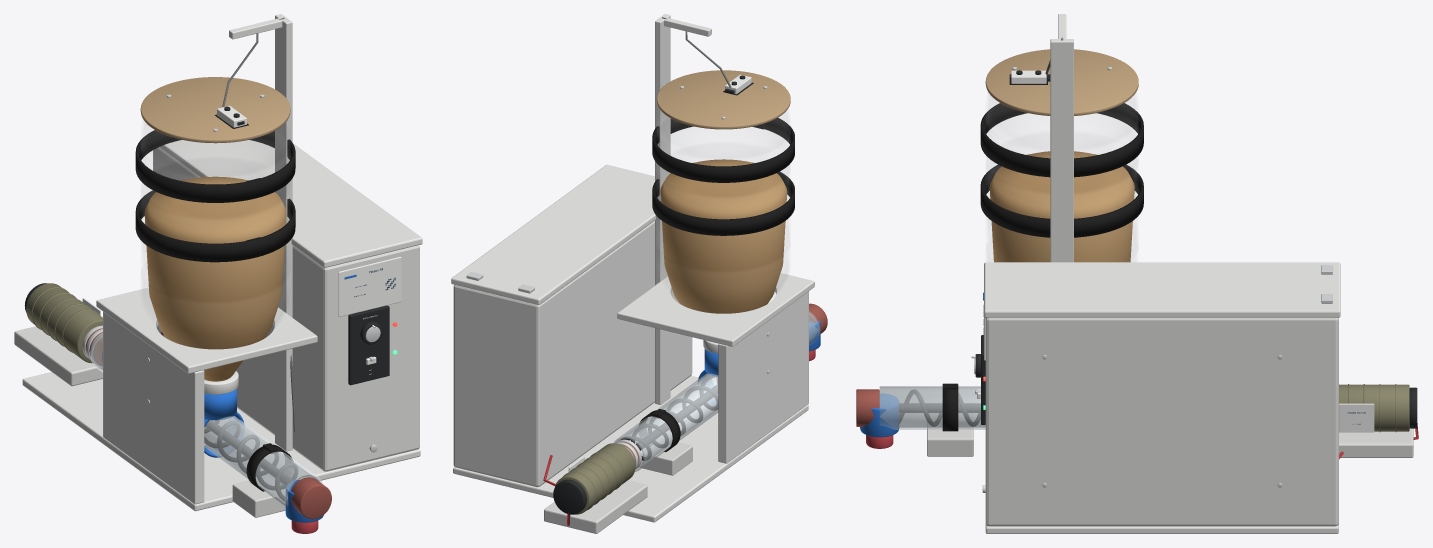
File: feeder-v1.1.2.glb
The picture shows the model from 3 angles, left to right: view 1: azimuth 30°, elevation 25°; view 2: azimuth 150°, elevation 25°; view 3: azimuth 270°, elevation 25°; orthographic projection. The views are drawn at different scales.
Visible parts, largest first — view 1: Chassis, Grain_Fill, Shelf_Support, Chassis_Lid, Hopper_Lid, Base_Plate, Hopper_Glass, Shelf, Post, Tube_Glass, Hopper_Strap_2, Hopper_Strap_1 (+13 smaller); view 2: Chassis, Grain_Fill, Chassis_Lid, Shelf_Support, Base_Plate, Hopper_Lid, Shelf, Hopper_Glass, Tube_Glass, Post, Hopper_Strap_2, Hopper_Strap_1 (+8 smaller); view 3: Chassis, Chassis_Lid, Grain_Fill, Hopper_Lid, Hopper_Glass, Post, Hopper_Strap_2, Tube_Glass, Hopper_Strap_1, Base_Plate, Motor_Body, Motor_Mount (+5 smaller).
Boxes of the visible parts, <box> form: Chassis: <box>153,147,419,471</box>; Grain_Fill: <box>144,176,286,381</box>; Shelf_Support: <box>103,312,204,504</box>; Chassis_Lid: <box>159,140,422,267</box>; Hopper_Lid: <box>140,77,290,143</box>; Base_Plate: <box>22,372,420,511</box>; Hopper_Glass: <box>141,122,289,328</box>; Shelf: <box>96,287,317,373</box>; Post: <box>275,14,292,451</box>; Tube_Glass: <box>90,334,322,506</box>; Hopper_Strap_2: <box>135,130,295,202</box>; Hopper_Strap_1: <box>135,180,295,262</box>; Chassis: <box>453,221,692,487</box>; Grain_Fill: <box>660,159,787,313</box>; Chassis_Lid: <box>451,164,655,304</box>; Shelf_Support: <box>718,291,808,463</box>; Base_Plate: <box>453,376,808,522</box>; Hopper_Lid: <box>656,70,790,129</box>; Shelf: <box>617,273,814,346</box>; Hopper_Glass: <box>657,111,789,295</box>; Tube_Glass: <box>614,311,820,471</box>; Post: <box>655,14,670,404</box>; Hopper_Strap_2: <box>652,118,794,182</box>; Hopper_Strap_1: <box>652,162,794,235</box>; Chassis: <box>985,317,1338,526</box>; Chassis_Lid: <box>984,262,1340,317</box>; Grain_Fill: <box>989,151,1134,262</box>; Hopper_Lid: <box>985,49,1138,115</box>; Hopper_Glass: <box>986,95,1137,261</box>; Post: <box>1050,39,1073,262</box>; Hopper_Strap_2: <box>980,103,1143,177</box>; Tube_Glass: <box>879,386,985,429</box>; Hopper_Strap_1: <box>980,154,1143,237</box>; Base_Plate: <box>985,524,1338,533</box>; Motor_Body: <box>1339,384,1409,431</box>; Motor_Mount: <box>1339,428,1413,457</box>.
Bounding box in the file's own units: 0.359 × 0.6261 × 0.7167.
